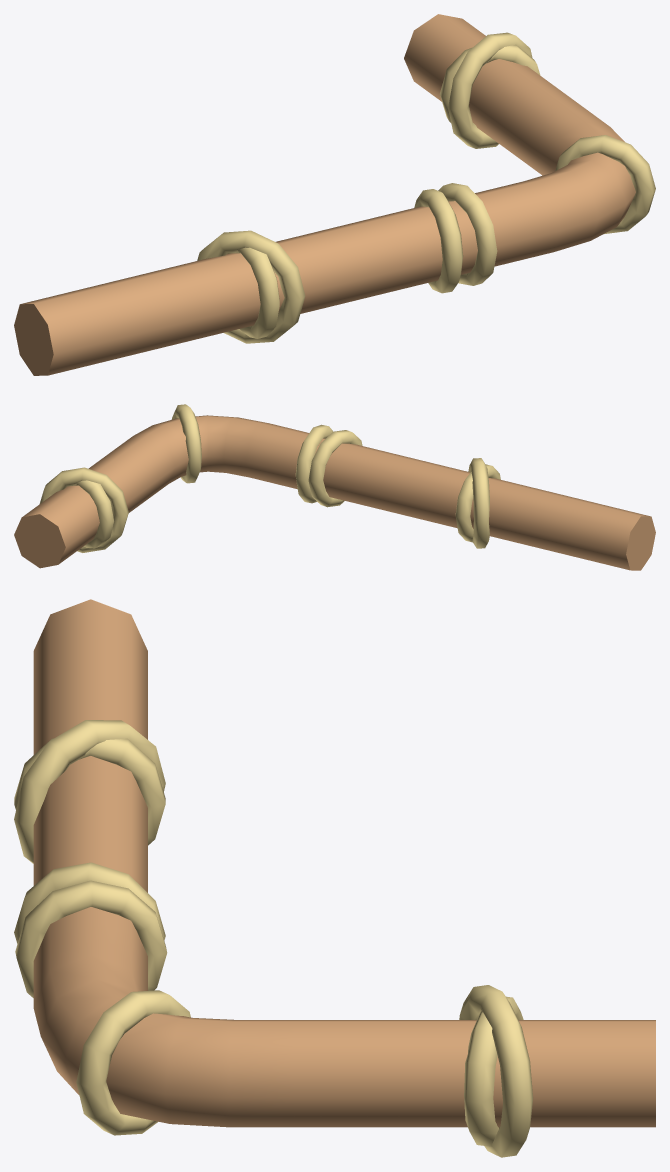
File: Esquina 01.fbx
3 views of the same model, one above another, from view 1: azimuth 30°, elevation 25°; view 2: azimuth 150°, elevation 25°; view 3: azimuth 270°, elevation 25° (orthographic). The views are drawn at different scales.
Visible parts, largest first — view 1: NurbsPath; view 2: NurbsPath; view 3: NurbsPath.
Boxes of the visible parts, x1,y1,x2,y2 form: NurbsPath: (14,14,655,375); NurbsPath: (14,404,655,570); NurbsPath: (14,599,655,1157).
Size of the model in its own units: 340 by 54.53 by 202.
